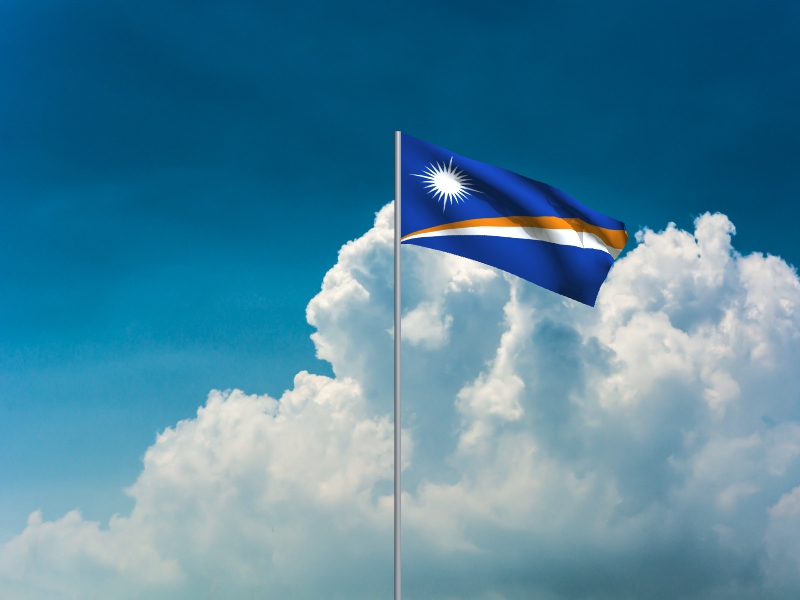mh: (402, 133, 630, 309)
